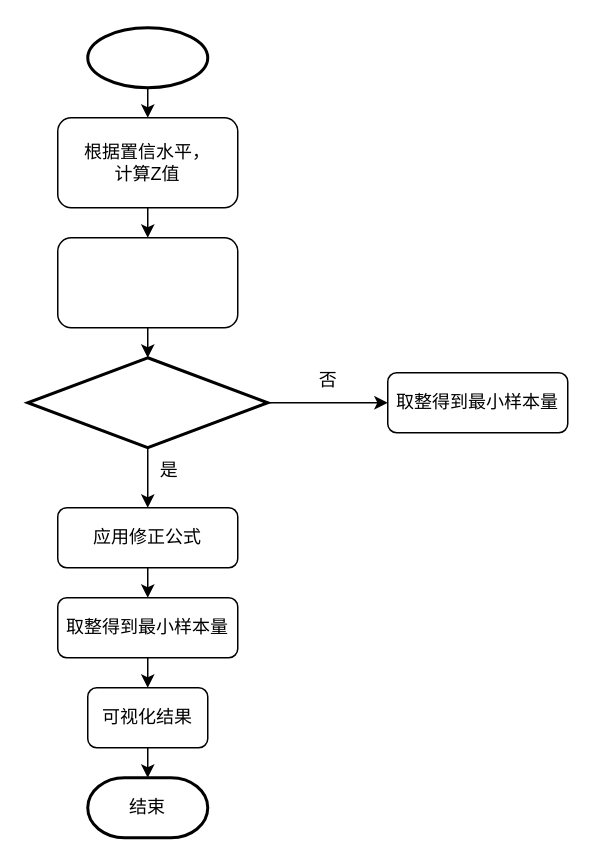
The diagram is 594 pixels wide and 864 high, and some of its shapes have lost their labels. The centre of each missing label's shape, as x and y in pixels:
"应用Cochran公式计算初步样本量" belongs at point (147, 282).
"开始" belongs at point (147, 57).
"总体数量是否有限" belongs at point (147, 402).
